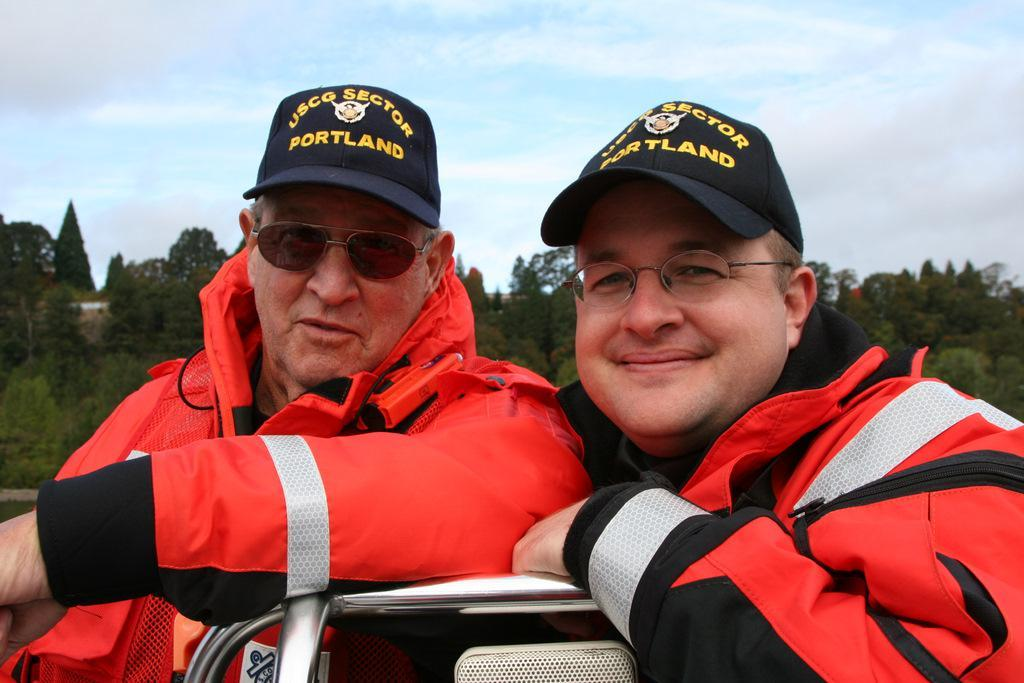Hat: (542, 102, 804, 255), (238, 81, 440, 231)
